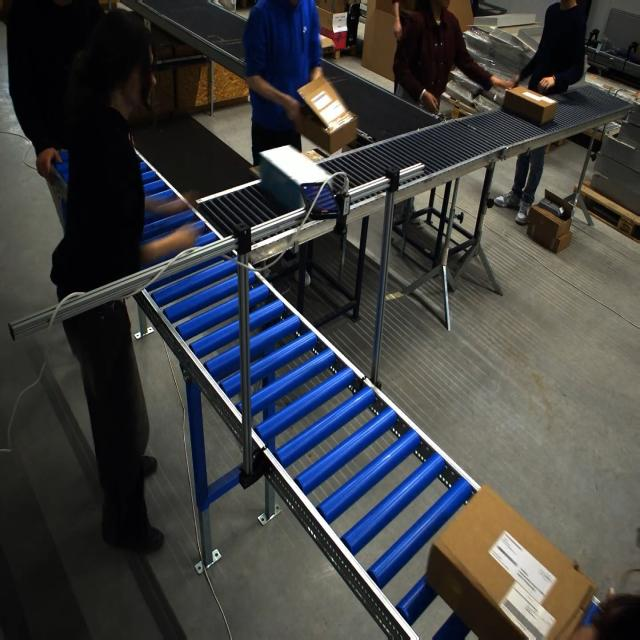box: (426, 488, 596, 638), (293, 71, 355, 155), (260, 144, 330, 208), (501, 85, 558, 126)
